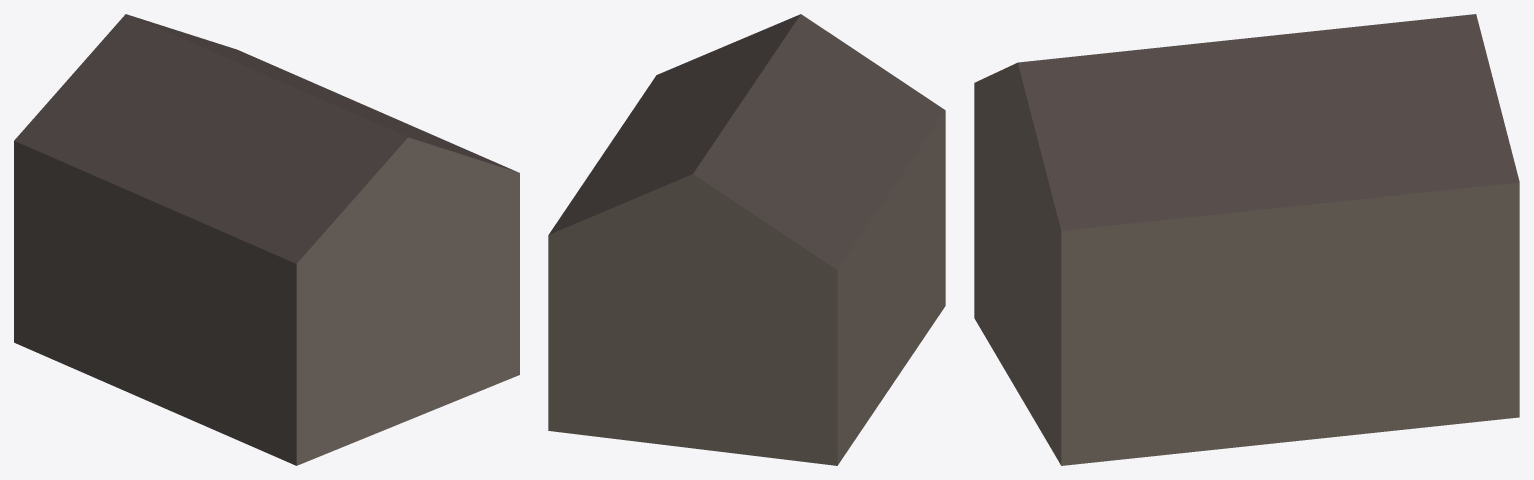
3 views of the same model, side by side, from view 1: azimuth 30°, elevation 25°; view 2: azimuth 150°, elevation 25°; view 3: azimuth 270°, elevation 25° (orthographic). The views are drawn at different scales.
Parts seen in each view (by area): view 1: HP-w1376988669; view 2: HP-w1376988669; view 3: HP-w1376988669.
Part boxes in pixels (x1,y1,x2,y2): HP-w1376988669: [14, 14, 519, 465]; HP-w1376988669: [548, 14, 945, 465]; HP-w1376988669: [974, 14, 1519, 465].
Size of the model in its own units: 10.77 by 8.41 by 12.63.
